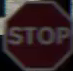Stop: (3, 3, 69, 62)
